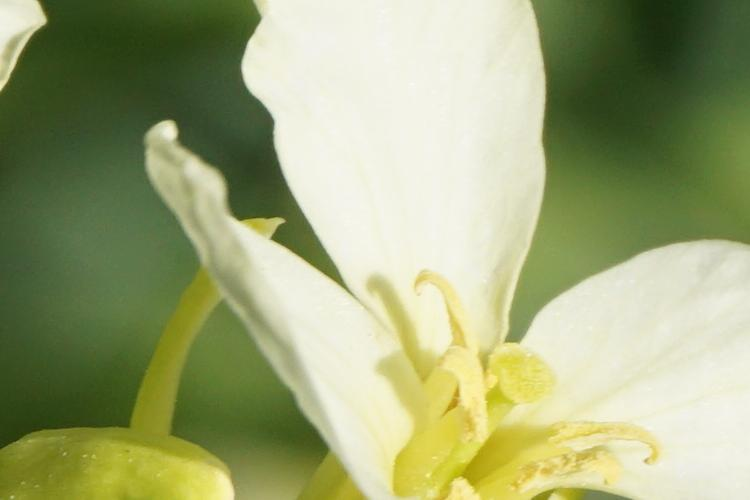white: (144, 19, 750, 499)
